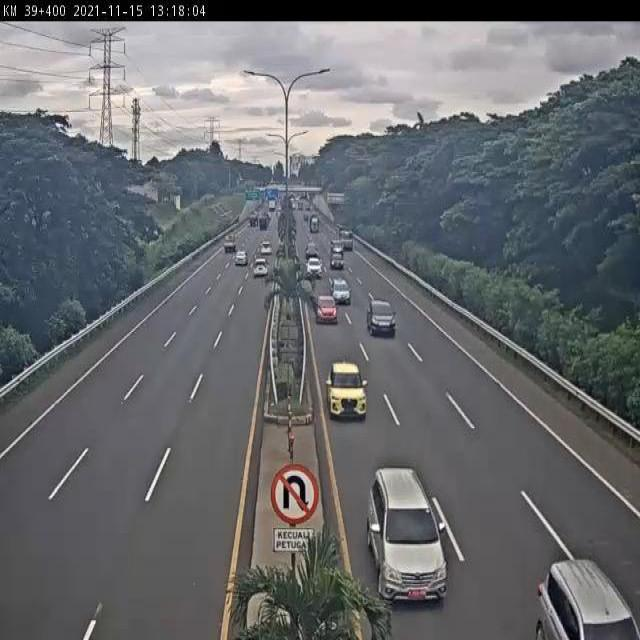car: (366, 467, 451, 602), (325, 360, 369, 419), (365, 298, 397, 338), (313, 292, 338, 325), (330, 278, 352, 306)
